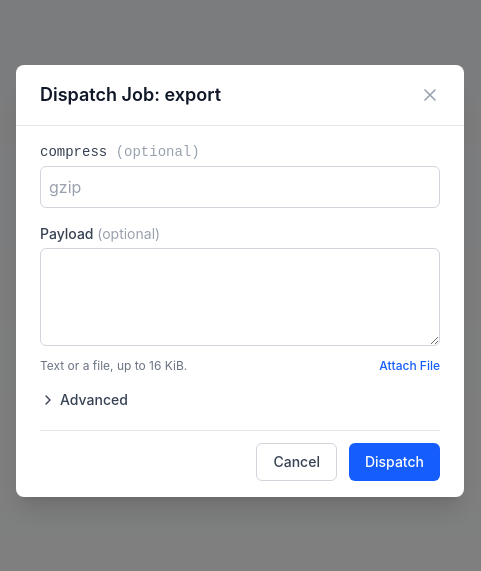
Test case: DispatchJobModal › explains a permission error
The image size is (481, 571).
Click the button "Dispatch".
click(394, 462)  # box [349,443,440,481]
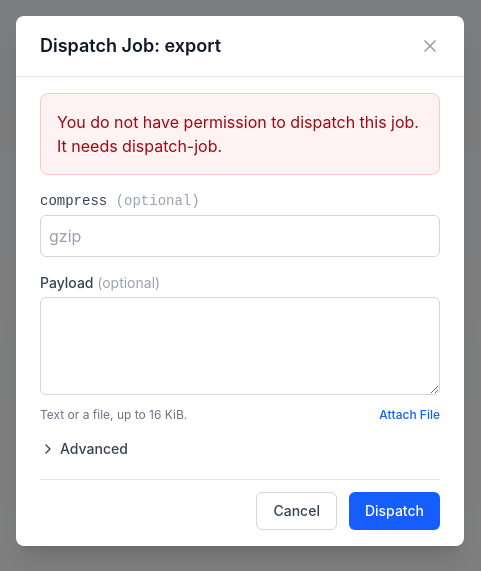
Check: the text "You do not have permission to dispatch this job. It needs dispatch-job." is shown, box [57,110,423,158]
